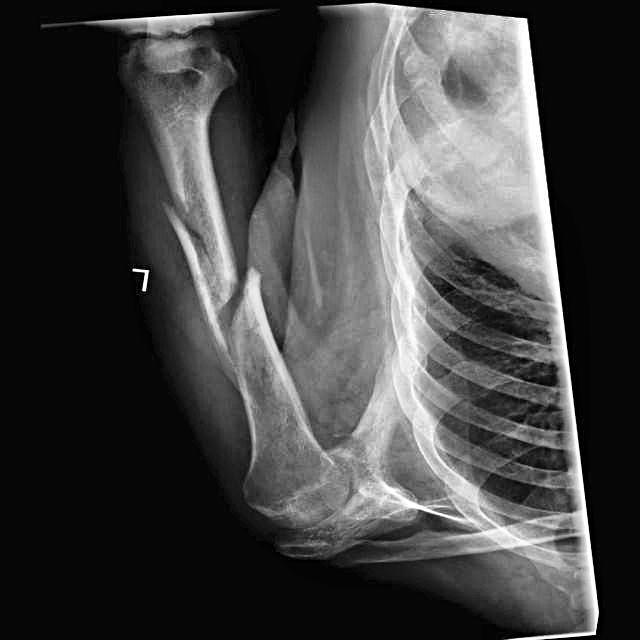Spiral: (160, 196, 283, 356)
